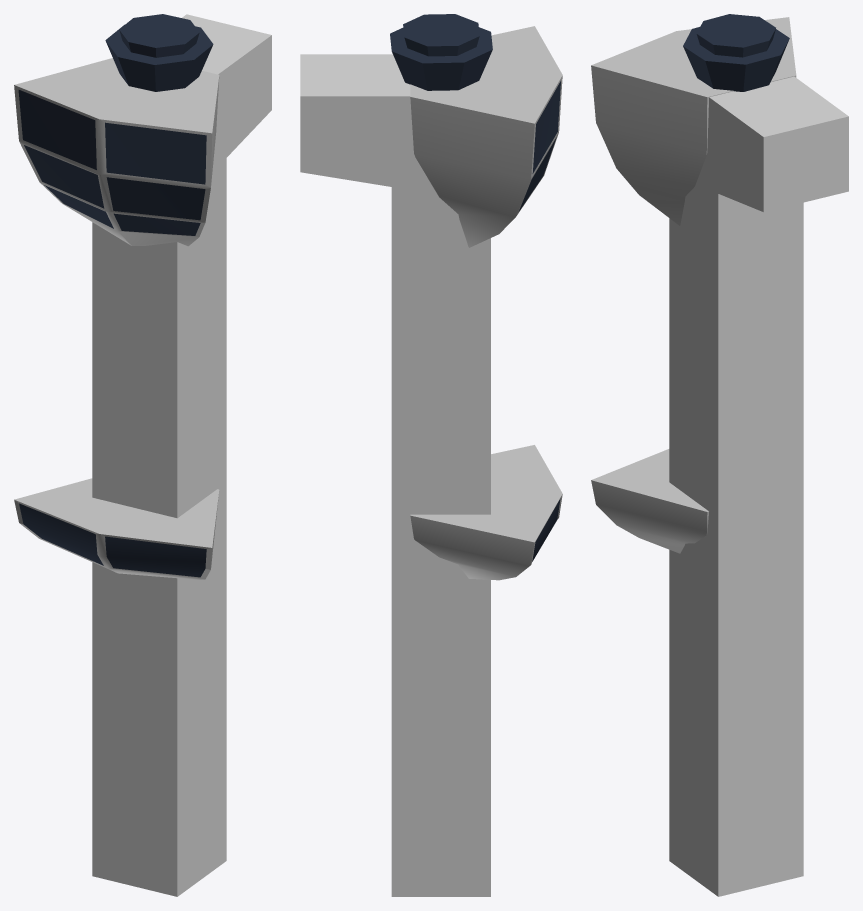
File: jfkatc.glb
The picture shows the model from 3 angles, left to right: view 1: azimuth 30°, elevation 25°; view 2: azimuth 150°, elevation 25°; view 3: azimuth 270°, elevation 25°; orthographic projection.
Parts seen in each view (by area): view 1: Cube, Cube.001, Cube.002, Cylinder; view 2: Cube, Cube.001, Cube.002, Cylinder; view 3: Cube, Cube.001, Cube.002, Cylinder.
Part boxes in pixels (x1,y1,x2,y2): Cube: [92, 14, 271, 896]; Cube.001: [14, 58, 219, 246]; Cube.002: [14, 478, 219, 579]; Cylinder: [105, 14, 213, 91]; Cube: [300, 54, 490, 896]; Cube.001: [410, 26, 562, 247]; Cube.002: [410, 445, 562, 580]; Cylinder: [390, 14, 492, 90]; Cube: [669, 76, 848, 896]; Cube.001: [591, 17, 796, 225]; Cube.002: [591, 449, 708, 553]; Cylinder: [683, 14, 789, 91].
Bounding box in the file's own units: 23.98 × 78.31 × 21.85.
